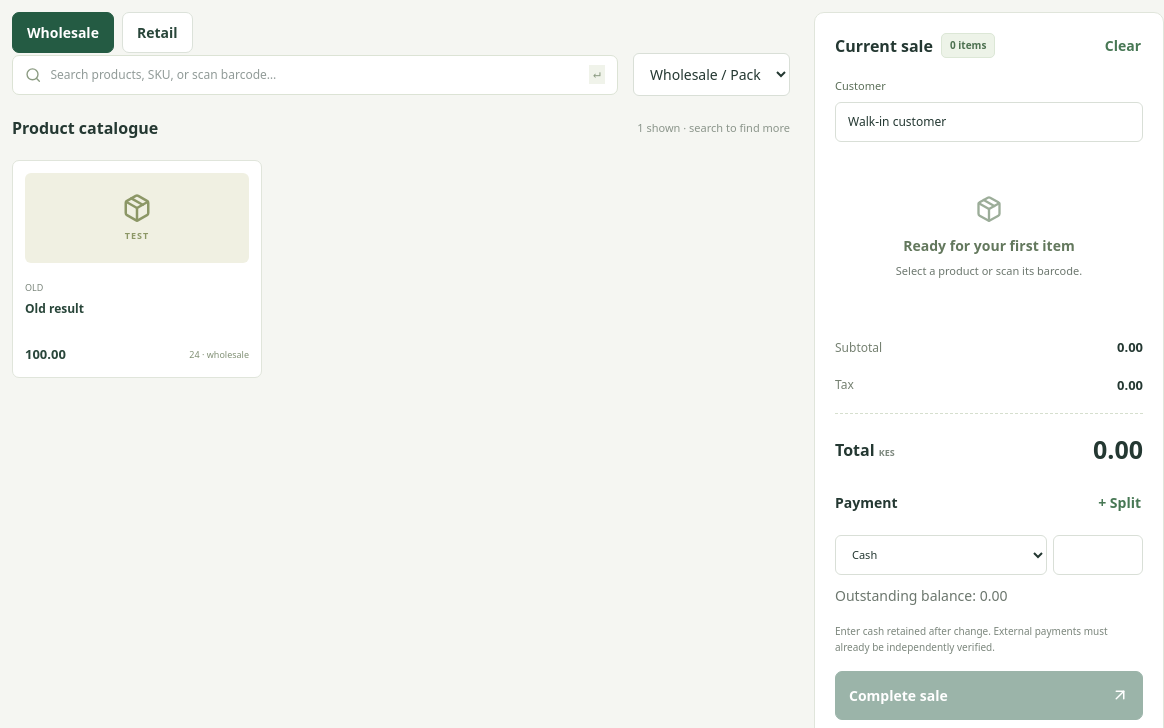
does not add a stale product when a barcode Enter arrives before search results
The width and height of the screenshot is (1164, 728).
Expected: the button "Test OLD Old result 100.00 24 · wholesale" is shown, [12,160,262,378]
Type "FRESH" into the field named "Search or scan products" at [315, 74], box [50,56,580,94]
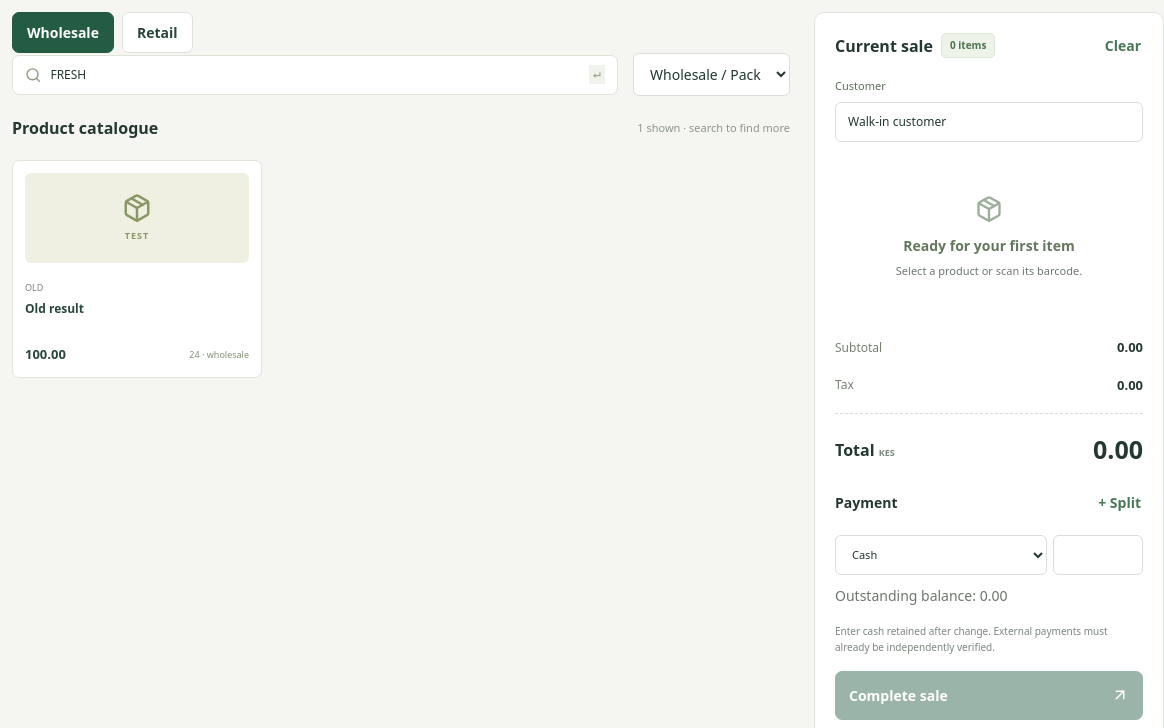
Press Enter in the field named "Search or scan products", box [50,56,580,94]
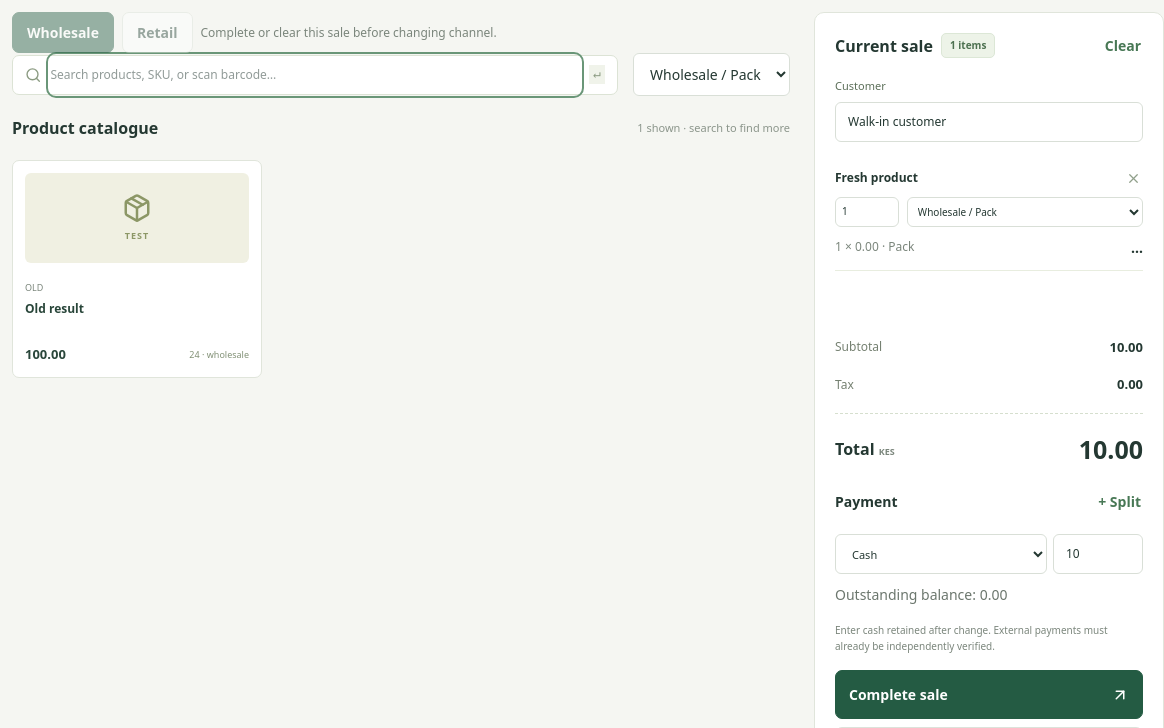
Now the button named "Remove Fresh product" is shown, box [1124,168,1143,188]
